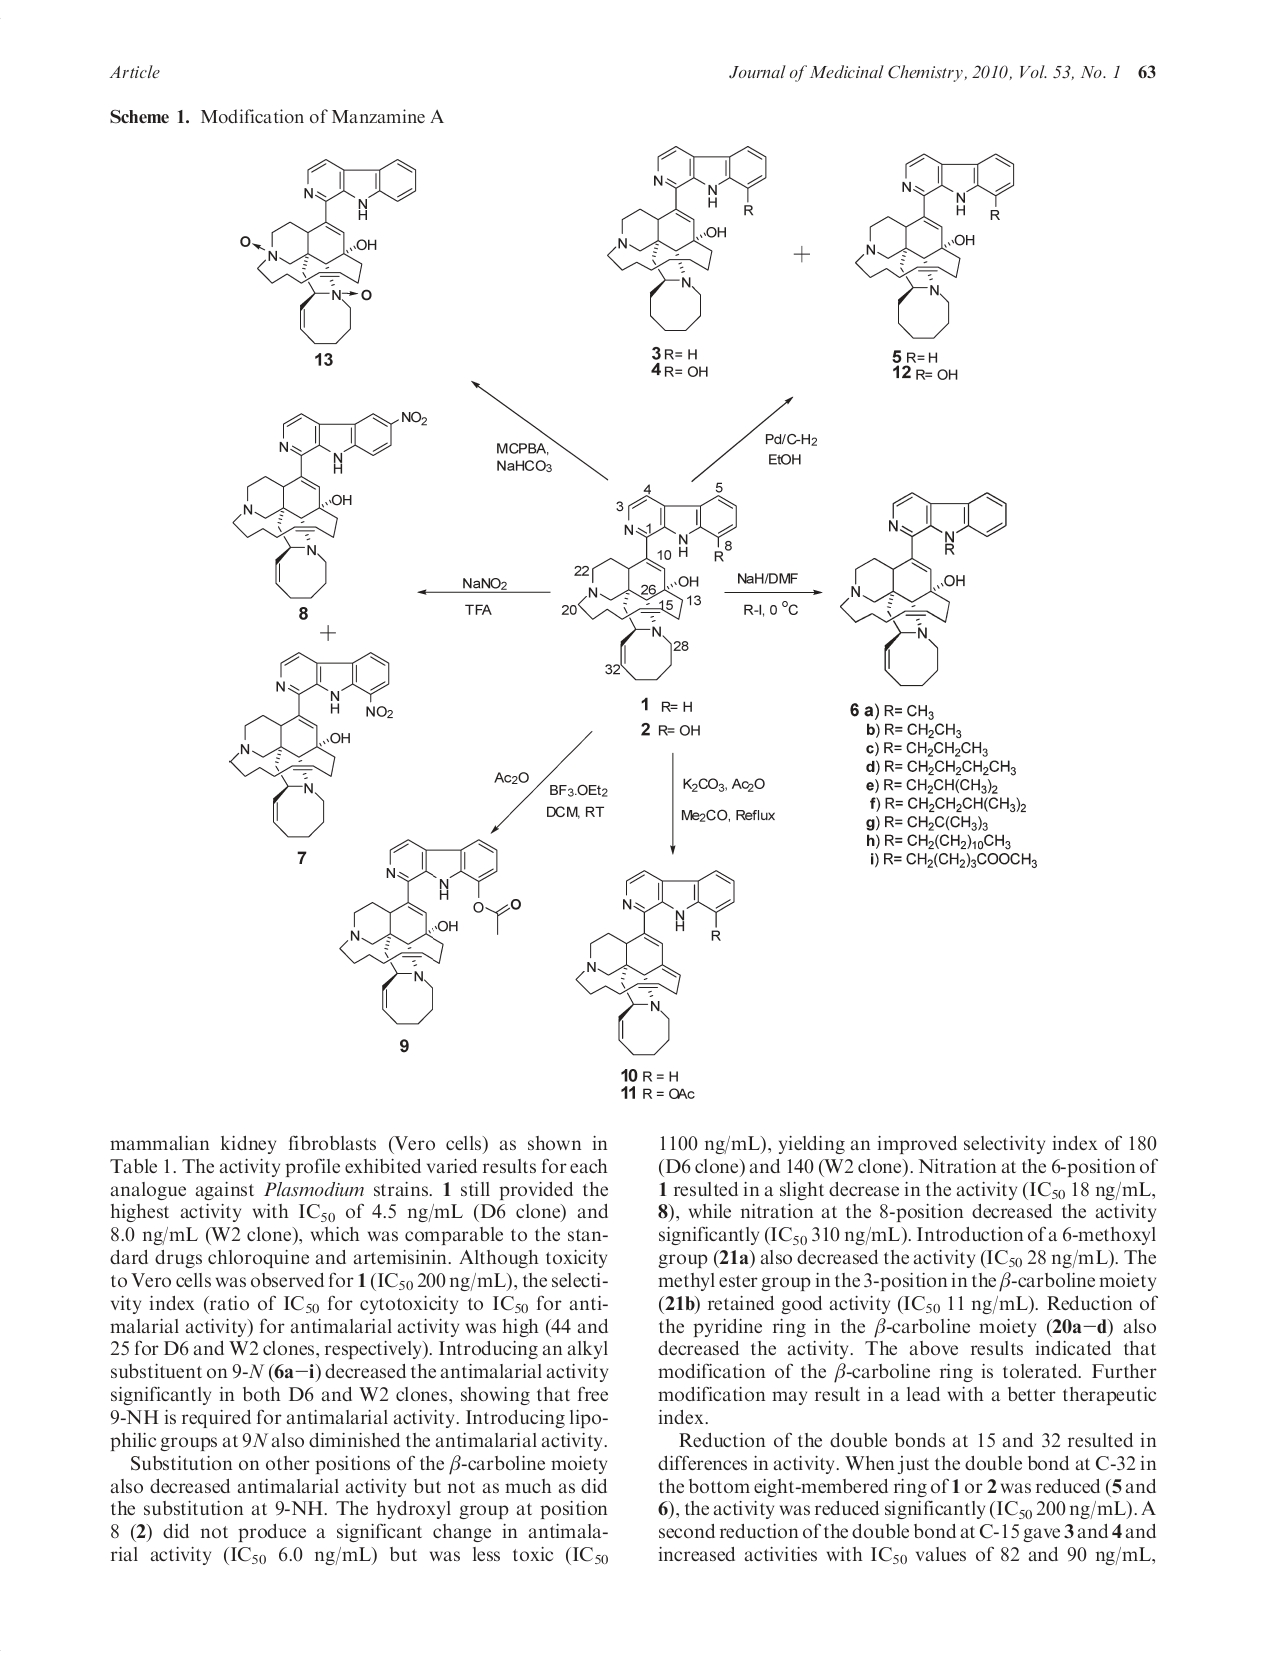exist_molecular: (231, 406, 428, 602), (563, 477, 739, 684), (339, 836, 524, 1028), (839, 489, 1009, 689), (239, 158, 418, 348), (227, 649, 396, 842), (573, 864, 739, 1059), (605, 144, 769, 332), (854, 152, 1016, 340)
